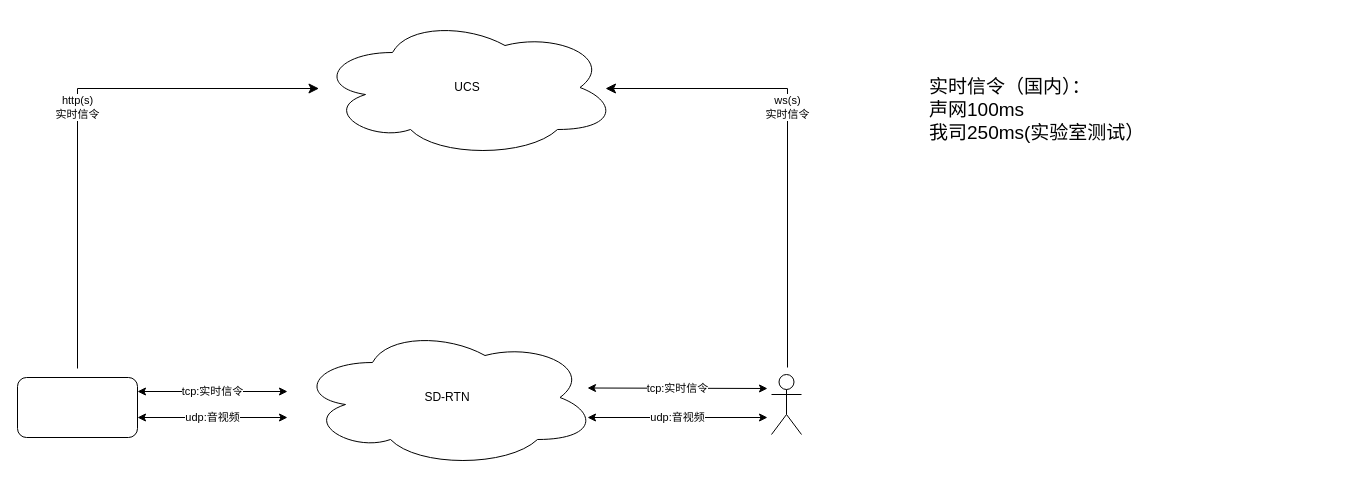
The diagram is 1345 pixels wide and 485 high, and some of its shapes have lost their labels. Here are the shapes that lost their labels. From the top down, the centre of each, then its label:
(77,407): device
(786,404): app
